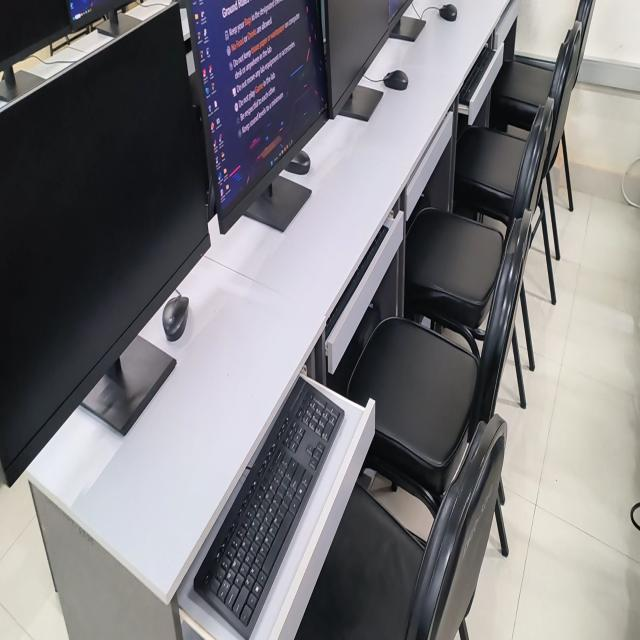Chair: (348, 211, 531, 504), (295, 415, 507, 639), (404, 97, 554, 351), (541, 0, 592, 260), (453, 107, 544, 233), (492, 55, 555, 107), (536, 191, 556, 304)
Keyboard: (194, 377, 345, 637)
Monitor: (0, 6, 210, 485), (192, 0, 324, 225), (324, 0, 412, 119)
Mouse: (162, 295, 189, 341), (285, 150, 310, 175), (383, 70, 408, 90), (439, 4, 457, 21)
